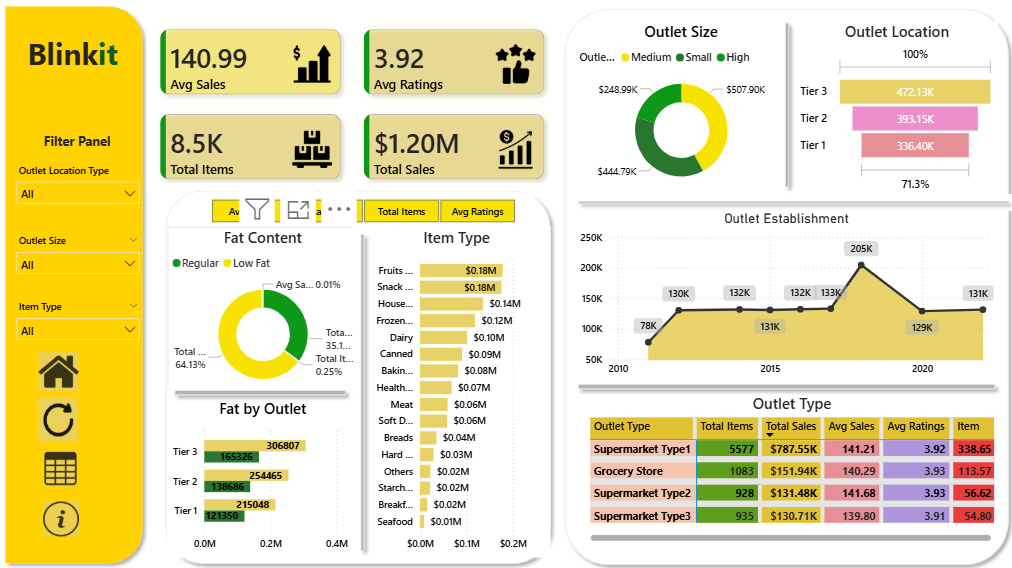

Layout of this report page (visuals, bound fields, positions):
{"tool":"powerbi","page":{"name":"Main Dashboard","canvas":[1280,720],"ordinal":0},"visuals":[{"type":"shape","box":[0,0,191.1,718.9],"z":0},{"type":"textbox","box":[11.5,37.7,165.6,75.4],"z":1000},{"type":"cardVisual","fields":{"Data":["BlinkIT Grocery Data.Avg Sales","BlinkIT Grocery Data.Avg Ratings","BlinkIT Grocery Data.Total Items","BlinkIT Grocery Data.Total Sales"]},"box":[186.2,21,518.2,223.5],"z":2000},{"type":"shape","box":[202.4,231.5,502,487.4],"z":3000},{"type":"slicer","fields":{"Values":["Parameter.Parameter"]},"box":[242.9,244.5,430.7,42.1],"z":4000},{"type":"donutChart","title":"Fat Content","fields":{"Y":["BlinkIT Grocery Data.Avg Sales","BlinkIT Grocery Data.Total Sales","BlinkIT Grocery Data.Total Items","BlinkIT Grocery Data.Avg Ratings"],"Category":["BlinkIT Grocery Data.Item Fat Content"]},"box":[213.7,286.6,239.6,215.4],"z":5000},{"type":"clusteredBarChart","title":"Fat by Outlet","fields":{"Y":["Sum(BlinkIT Grocery Data.Sales)"],"Category":["BlinkIT Grocery Data.Outlet Location Type"],"Series":["BlinkIT Grocery Data.Item Fat Content"]},"box":[213.7,502,239.6,200.8],"z":6000},{"type":"barChart","title":"Item Type","fields":{"Category":["BlinkIT Grocery Data.Item Type"],"Y":["BlinkIT Grocery Data.Total Sales"]},"box":[458.2,286.6,236.4,416.1],"z":7000},{"type":"shape","box":[446.9,286.6,22.7,416.1],"z":8000},{"type":"shape","box":[213.7,482.5,233.2,24.3],"z":9000},{"type":"shape","box":[704.4,3.2,576.4,717.3],"z":10000},{"type":"donutChart","title":"Outlet Size","fields":{"Category":["BlinkIT Grocery Data.Outlet Size"],"Y":["BlinkIT Grocery Data.Total Sales"]},"box":[727,27.5,265.6,218.6],"z":11000},{"type":"slicer","title":" Outlet Size","fields":{"Values":["BlinkIT Grocery Data.Outlet Location Type"]},"box":[13,202.4,174.9,72.9],"z":12000},{"type":"lineChart","title":" Outlet Establishment ","fields":{"Category":["BlinkIT Grocery Data.Outlet Establishment Year"],"Y":["Sum(BlinkIT Grocery Data.Sales)"]},"box":[727,265.6,531.1,217],"z":13000},{"type":"pivotTable","title":"Outlet Type","fields":{"Rows":["BlinkIT Grocery Data.Outlet Type"],"Values":["BlinkIT Grocery Data.Total Items","BlinkIT Grocery Data.Total Sales","BlinkIT Grocery Data.Avg Sales","BlinkIT Grocery Data.Avg Ratings","Sum(BlinkIT Grocery Data.Item Visibility)"]},"box":[740,495.5,518.2,191.1],"z":14000},{"type":"shape","box":[981.3,21,22.7,225.1],"z":16000},{"type":"shape","box":[720.6,244.5,548.9,21],"z":17000},{"type":"shape","box":[720.6,476.1,542.4,24.3],"z":18000},{"type":"shape","box":[727,246.1,542.4,19.4],"z":19000},{"type":"shape","box":[720.6,244.5,560.3,21],"z":20000},{"type":"slicer","title":" Outlet Size","fields":{"Values":["BlinkIT Grocery Data.Outlet Size"]},"box":[13,289.8,174.9,72.9],"z":21000},{"type":"slicer","title":" Outlet Size","fields":{"Values":["BlinkIT Grocery Data.Item Type"]},"box":[13,374,174.9,84.2],"z":22000},{"type":"textbox","box":[17.8,161.9,165.2,40.5],"z":23000},{"type":"funnel","title":" Outlet Location ","fields":{"Category":["BlinkIT Grocery Data.Outlet Location Type"],"Y":["Sum(BlinkIT Grocery Data.Sales)"]},"box":[1003.9,27.5,254.2,218.6],"z":24000},{"type":"actionButton","box":[50.4,443.7,50.4,50.4],"z":25000},{"type":"actionButton","box":[50.2,502,50.2,55.1],"z":26000},{"type":"actionButton","box":[56.7,568.3,43.7,45.3],"z":27000},{"type":"actionButton","box":[56.7,631.5,45.3,43.7],"z":28000}]}

Visuals, with their boxes in screenshot pixels (x1, y1, x2, y2), scaled from the page's 1280x720 canvas onto the 1012x568 screenshot:
shape: (x1=0, y1=0, x2=151, y2=567)
textbox: (x1=9, y1=30, x2=140, y2=89)
cardVisual - BlinkIT Grocery Data.Avg Sales x BlinkIT Grocery Data.Avg Ratings: (x1=147, y1=17, x2=557, y2=193)
shape: (x1=160, y1=183, x2=557, y2=567)
slicer - Parameter.Parameter: (x1=192, y1=193, x2=533, y2=226)
"Fat Content" donutChart: (x1=169, y1=226, x2=358, y2=396)
"Fat by Outlet" clusteredBarChart: (x1=169, y1=396, x2=358, y2=554)
"Item Type" barChart: (x1=362, y1=226, x2=549, y2=554)
shape: (x1=353, y1=226, x2=371, y2=554)
shape: (x1=169, y1=381, x2=353, y2=400)
shape: (x1=557, y1=3, x2=1011, y2=567)
"Outlet Size" donutChart: (x1=575, y1=22, x2=785, y2=194)
" Outlet Size" slicer: (x1=10, y1=160, x2=149, y2=217)
" Outlet Establishment " lineChart: (x1=575, y1=210, x2=995, y2=381)
"Outlet Type" pivotTable: (x1=585, y1=391, x2=995, y2=542)
shape: (x1=776, y1=17, x2=794, y2=194)
shape: (x1=570, y1=193, x2=1004, y2=209)
shape: (x1=570, y1=376, x2=999, y2=395)
shape: (x1=575, y1=194, x2=1004, y2=209)
shape: (x1=570, y1=193, x2=1011, y2=209)
" Outlet Size" slicer: (x1=10, y1=229, x2=149, y2=286)
" Outlet Size" slicer: (x1=10, y1=295, x2=149, y2=361)
textbox: (x1=14, y1=128, x2=145, y2=160)
" Outlet Location " funnel: (x1=794, y1=22, x2=995, y2=194)
actionButton: (x1=40, y1=350, x2=80, y2=390)
actionButton: (x1=40, y1=396, x2=79, y2=439)
actionButton: (x1=45, y1=448, x2=79, y2=484)
actionButton: (x1=45, y1=498, x2=81, y2=533)
